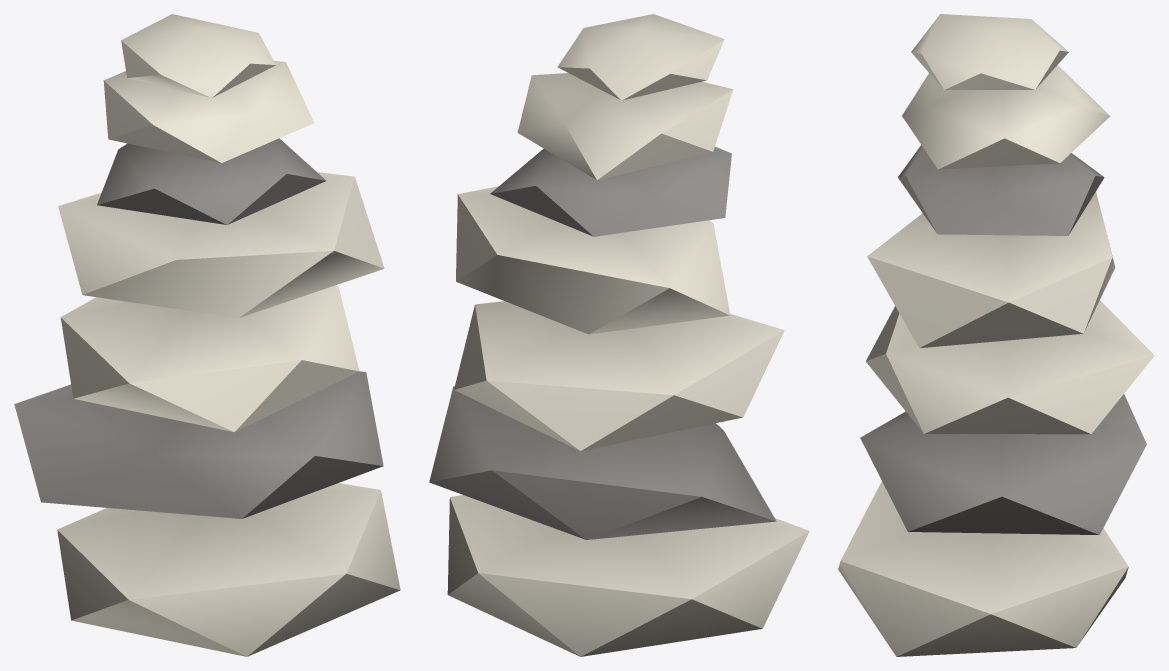
The model's file is cairn_c.glb.
3 views of the same model, side by side, from view 1: azimuth 30°, elevation 25°; view 2: azimuth 150°, elevation 25°; view 3: azimuth 270°, elevation 25° (orthographic). The views are drawn at different scales.
Visible parts, largest first — view 1: cairn_c; view 2: cairn_c; view 3: cairn_c.
Part boxes in pixels (<box>): cairn_c: <box>14,14,400,656</box>; cairn_c: <box>429,14,809,656</box>; cairn_c: <box>838,14,1154,656</box>.
Size of the model in its own units: 1.32 by 2.28 by 1.12.
